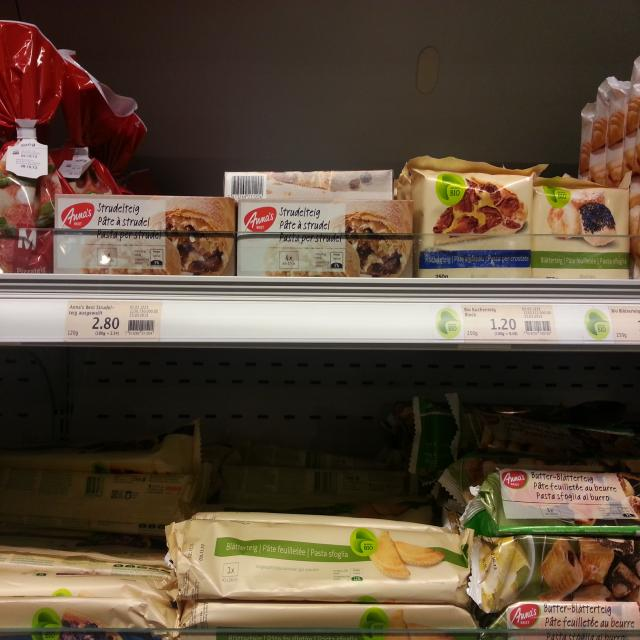Bakery: (164, 514, 481, 607), (473, 527, 640, 640), (414, 160, 538, 289), (50, 193, 239, 276), (243, 195, 421, 278), (478, 450, 640, 535), (540, 180, 632, 285)
Bombons: (0, 36, 82, 276)
